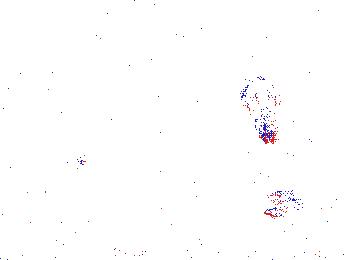flame jellyfish: (263, 166, 346, 219), (238, 71, 283, 143), (40, 154, 92, 206)
